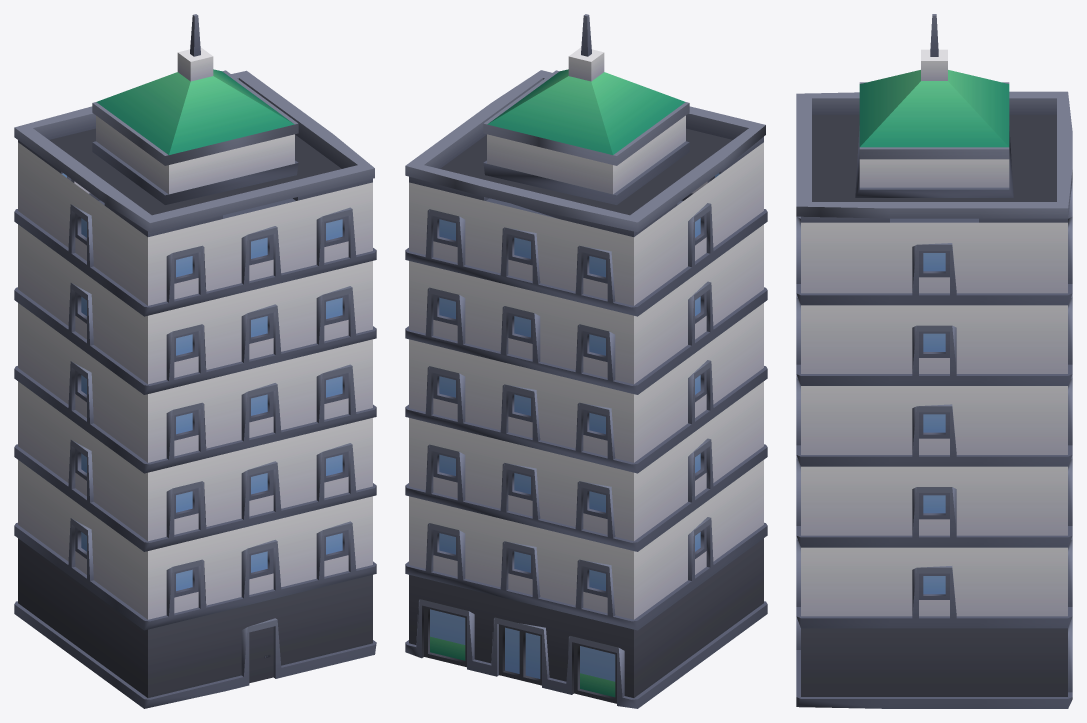
Rendered from 087_city-kit-commercial_building-m_card.glb.
3 views of the same model, side by side, from view 1: azimuth 30°, elevation 25°; view 2: azimuth 150°, elevation 25°; view 3: azimuth 270°, elevation 25° (orthographic). The views are drawn at different scales.
Parts seen in each view (by area): view 1: building-m; view 2: building-m; view 3: building-m.
Part boxes in pixels (box(x1,y1,x2,y2)): building-m: box(14, 14, 376, 708); building-m: box(405, 14, 767, 708); building-m: box(796, 14, 1072, 708).
Bounding box in the file's own units: 1.24 × 3.15 × 1.24.
1 material, 1 textured.
